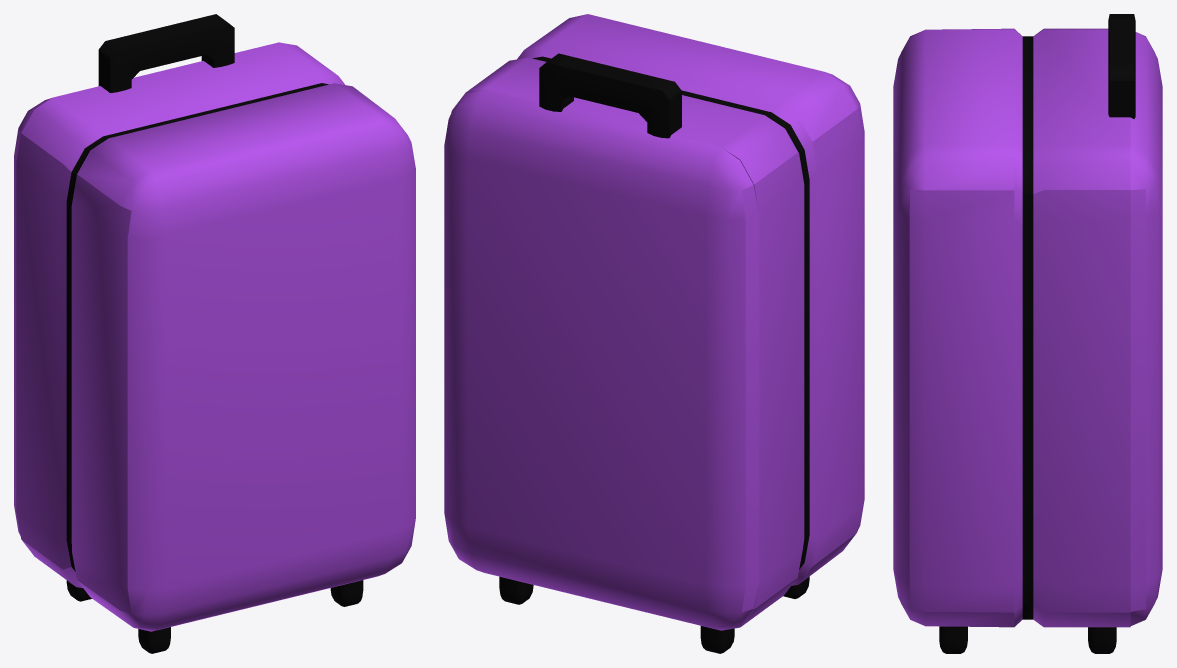
File: suitcase.fbx
3 renders of one model, left to right at view 1: azimuth 30°, elevation 25°; view 2: azimuth 150°, elevation 25°; view 3: azimuth 270°, elevation 25°, orthographic. The views are drawn at different scales.
Visible parts, largest first — view 1: suitcase; view 2: suitcase; view 3: suitcase.
Boxes of the visible parts, bbox=[...] form: suitcase: bbox=[14, 14, 415, 653]; suitcase: bbox=[444, 14, 864, 653]; suitcase: bbox=[893, 14, 1162, 653].
Bounding box in the file's own units: 44.48 × 76.28 × 33.38.
